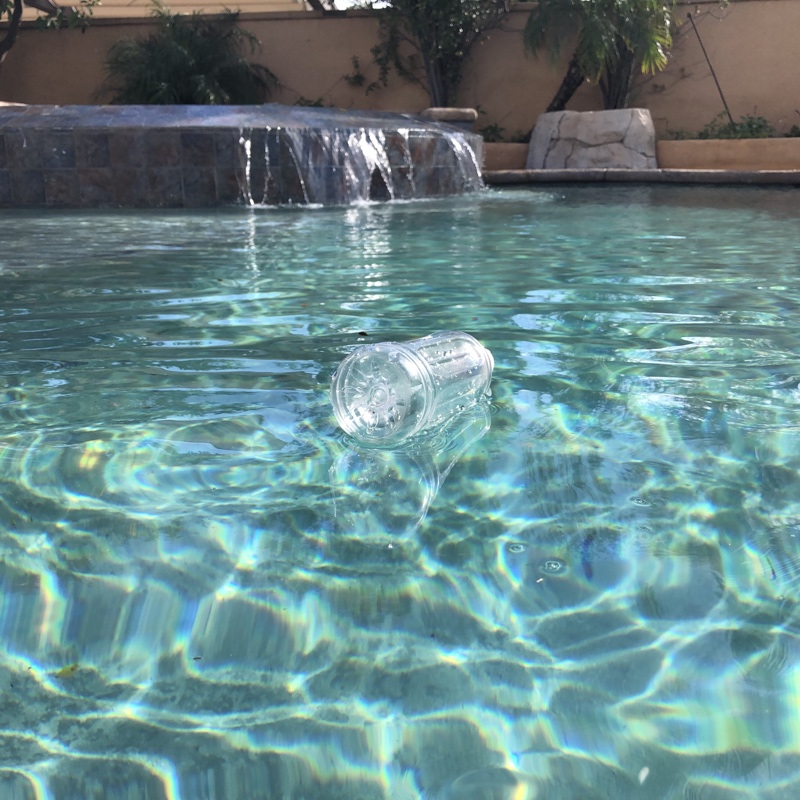Plastic Bottle: (328, 327, 501, 451)
